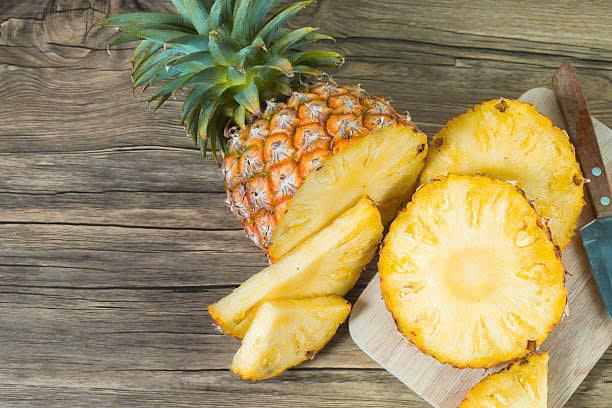pineapple: (105, 1, 422, 202), (381, 176, 556, 363)
